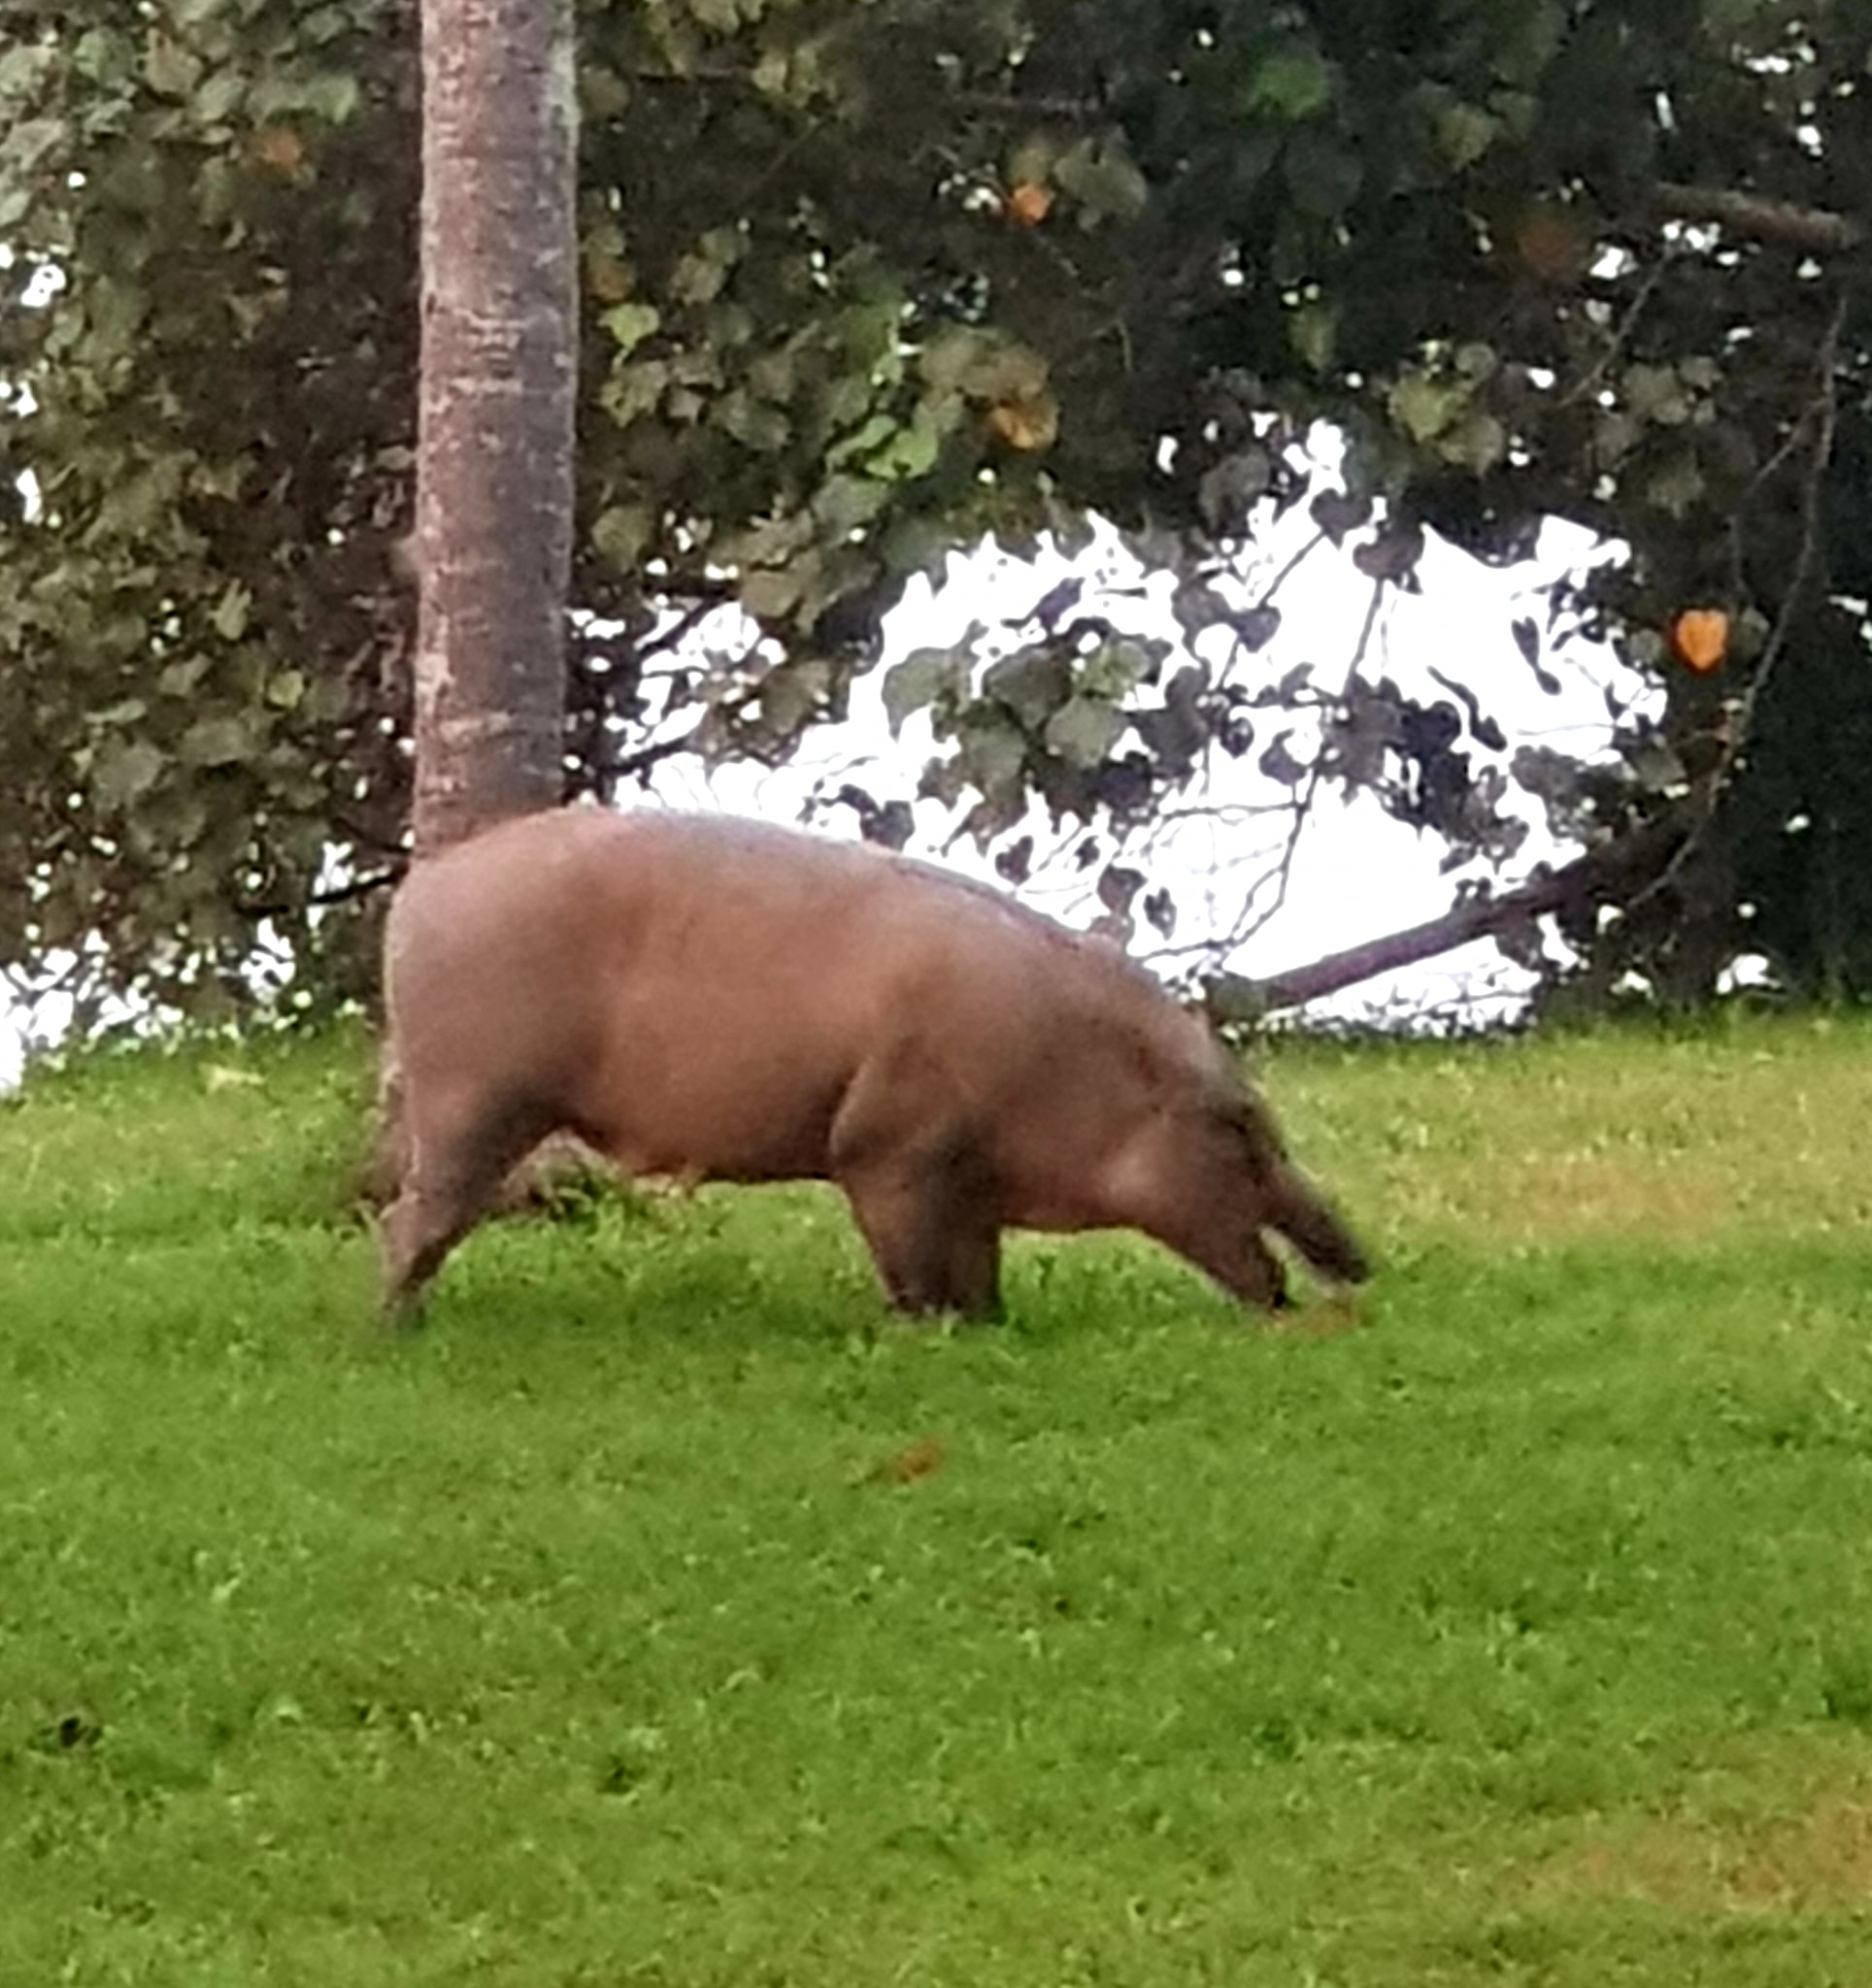boar: (368, 790, 1379, 1327)
